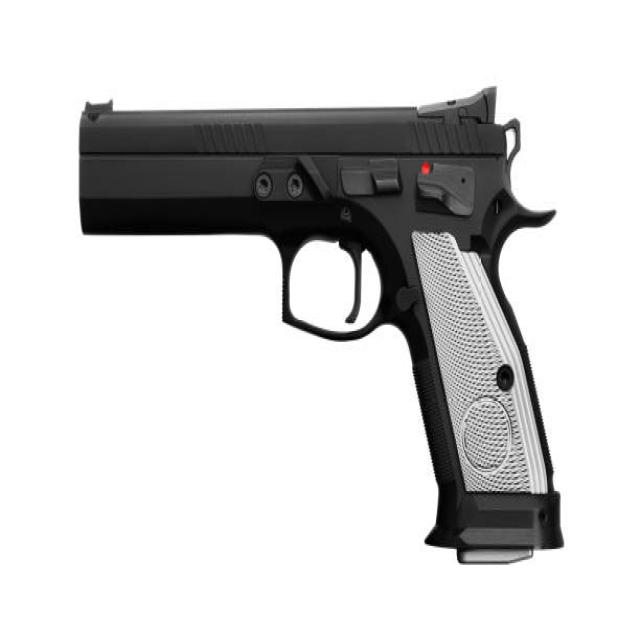pistol: (71, 79, 571, 574)
